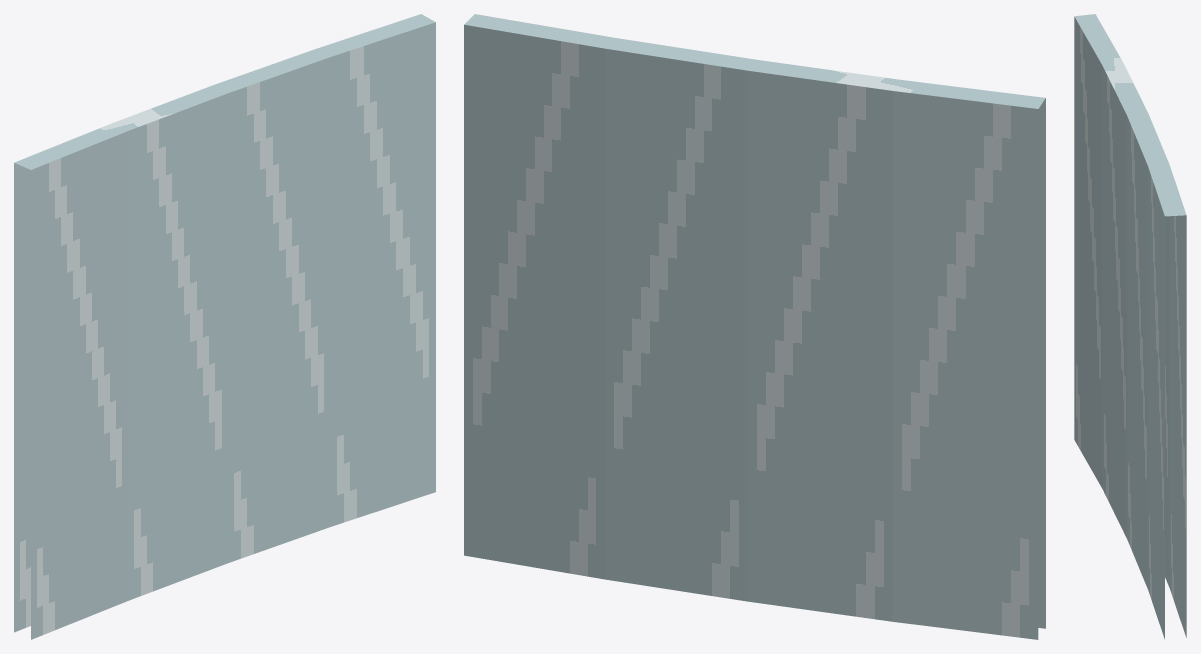
File: curve_glass_13.obj
3 renders of one model, left to right at view 1: azimuth 30°, elevation 25°; view 2: azimuth 150°, elevation 25°; view 3: azimuth 270°, elevation 25°, orthographic. The views are drawn at different scales.
Visible parts, largest first — view 1: curve_glass_13; view 2: curve_glass_13; view 3: curve_glass_13.
Part boxes in pixels (box(x1,y1,x2,y2)): curve_glass_13: box(14, 14, 435, 639); curve_glass_13: box(464, 14, 1045, 639); curve_glass_13: box(1074, 14, 1186, 639).
Bounding box in the file's own units: 1.03 × 1 × 0.2404.
